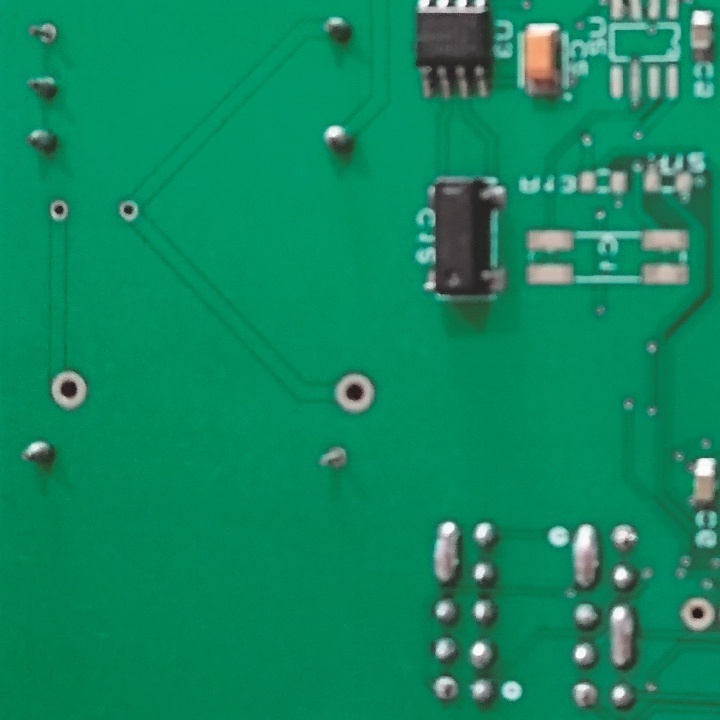F: (330, 372, 377, 415), (676, 594, 720, 636), (47, 369, 91, 405), (608, 519, 643, 552), (24, 18, 59, 48), (567, 678, 598, 710), (318, 442, 348, 472), (430, 673, 460, 702), (45, 196, 73, 223), (115, 198, 141, 223)
P: (430, 518, 466, 583), (606, 601, 640, 669), (570, 522, 603, 592)
